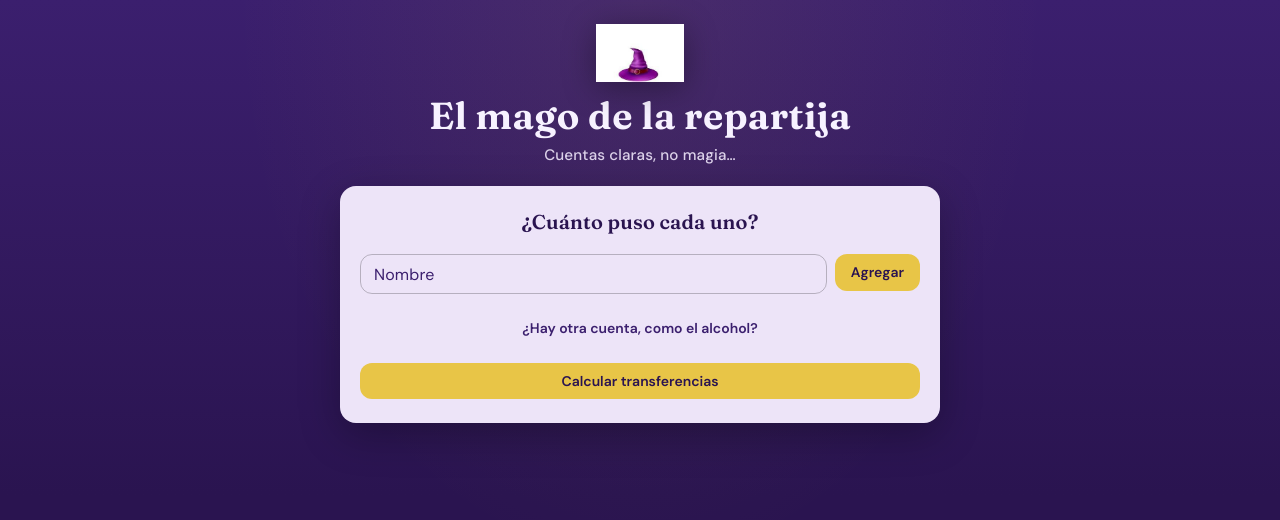
Test: debería mostrar el nombre y el monto en la misma fila cuando se agrega una persona
Expected: the heading "¿Cuánto puso cada uno?" is shown, left=522, top=210, right=758, bottom=234
Step 1. Type "Ferra" into the field labelled "Nombre" → (593, 274), box left=360, top=254, right=827, bottom=294
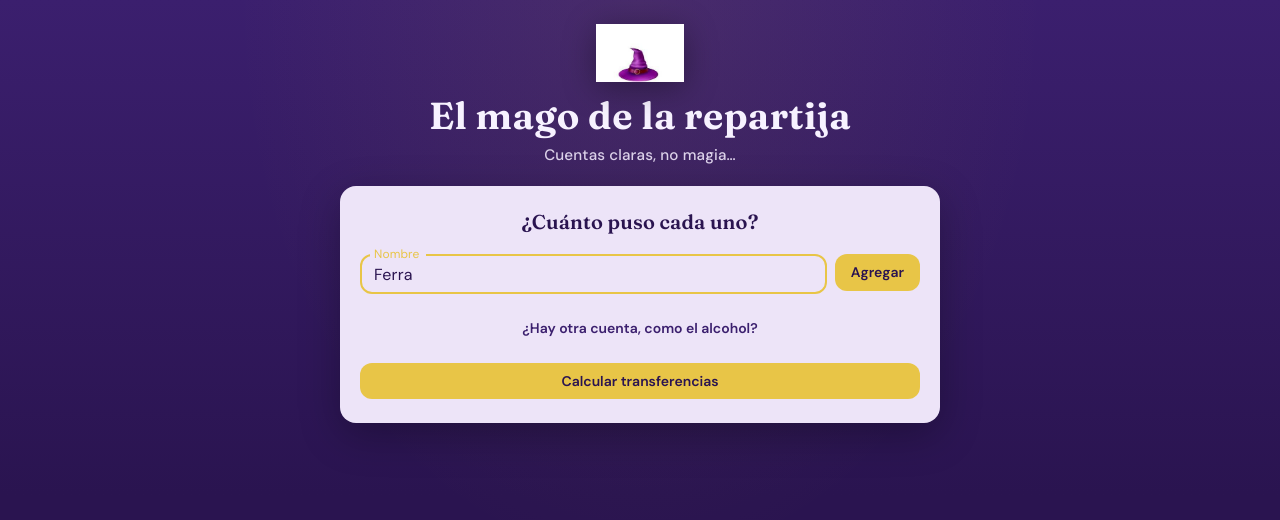
Step 2. Click the button "Agregar" → (877, 273), box left=835, top=254, right=920, bottom=291
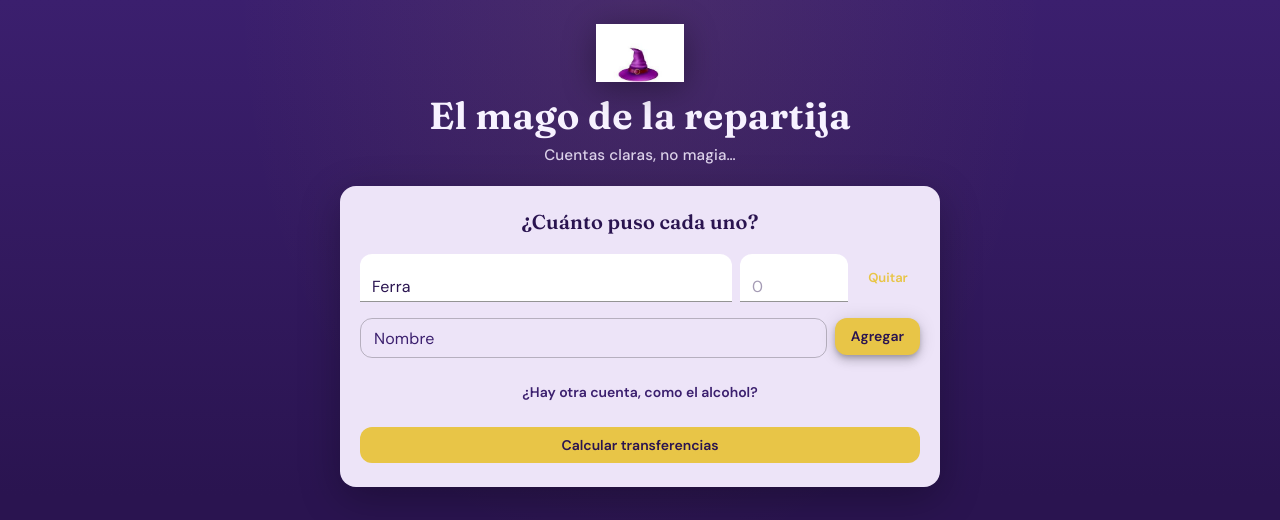
Result: the field named "Nombre de Ferra" is shown at left=360, top=254, right=732, bottom=302
Result: the field named "Monto de Ferra" is empty at left=740, top=254, right=848, bottom=302
